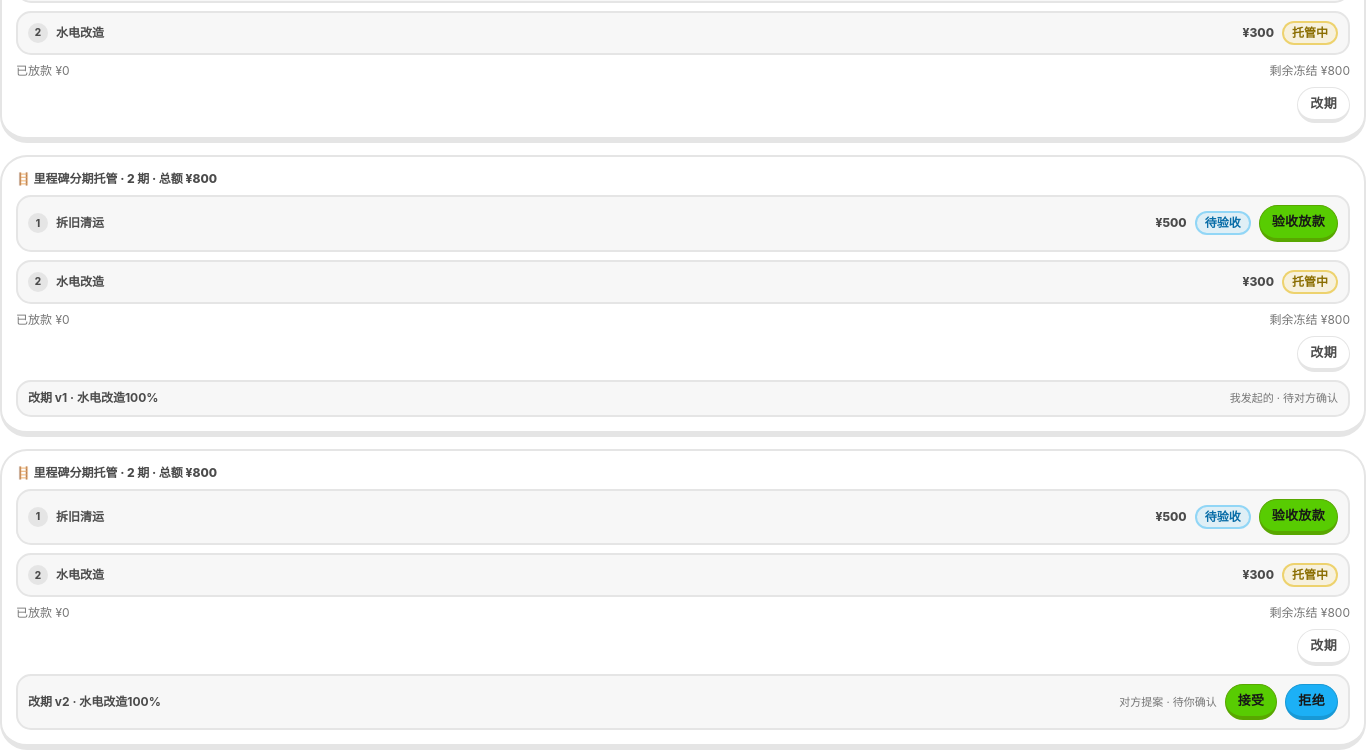
it: Server 模式（M2 · 行合同驱动） › M6 对方提案：接受调 decide＋提案卡消失
The image size is (1366, 750).
(page scrolled)
Expected: the element with test id "milestone-amend-proposal-2" shows "待你确认", [1119, 694, 1217, 708]
Click the button with test id "milestone-amend-accept-2": [1251, 702] box [1225, 684, 1277, 720]
(page scrolled)
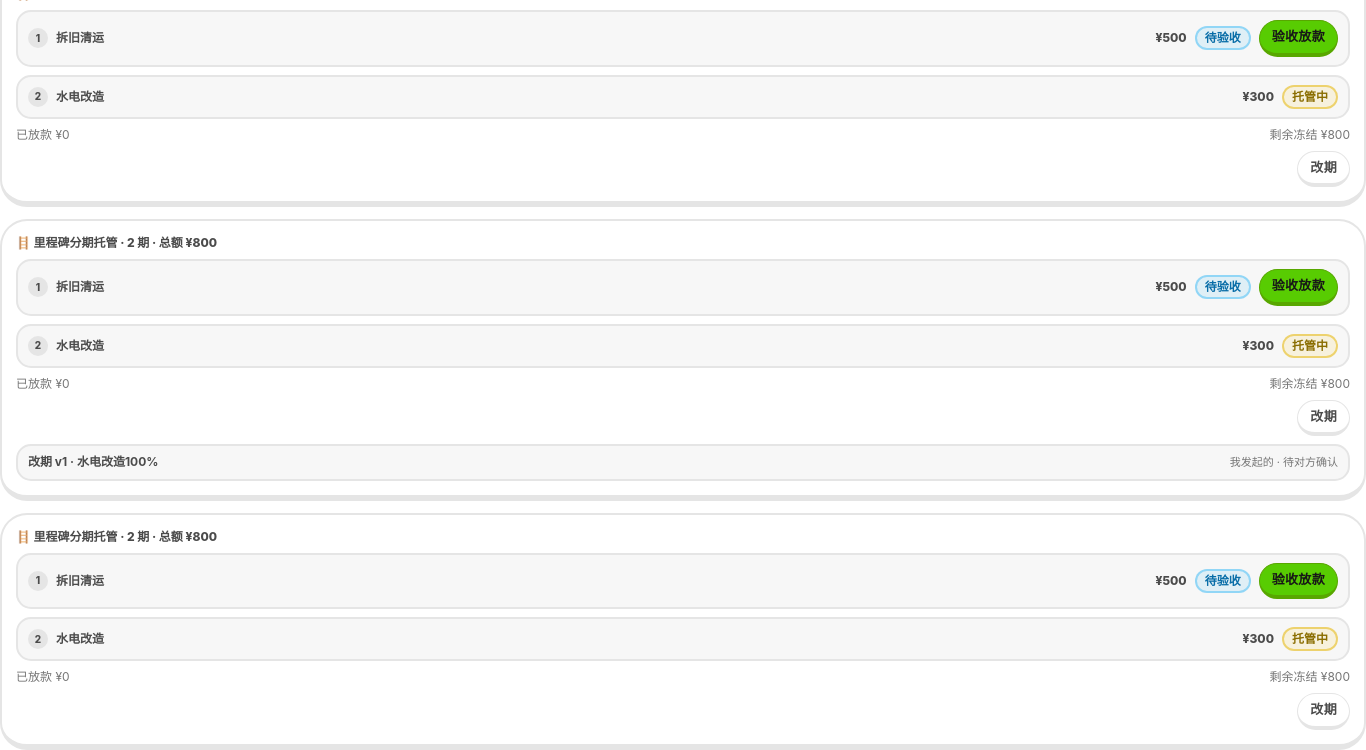
Expected: the element with test id "milestone-amend-proposal-2" is gone
